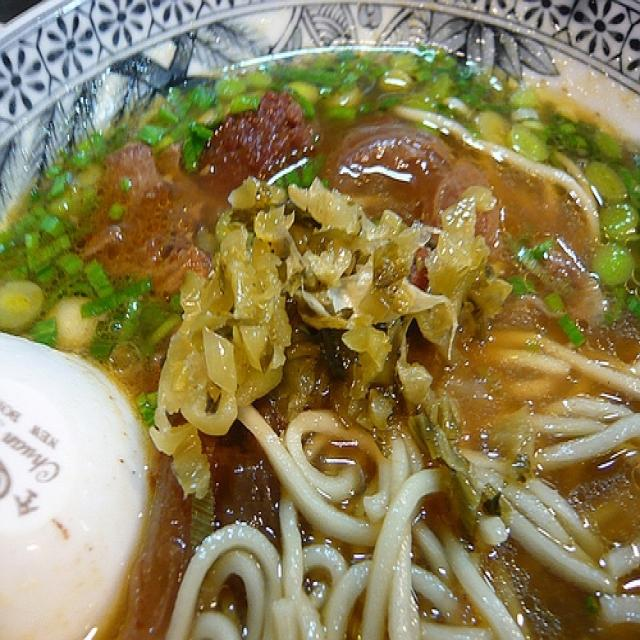面条主食: (19, 10, 620, 618)
